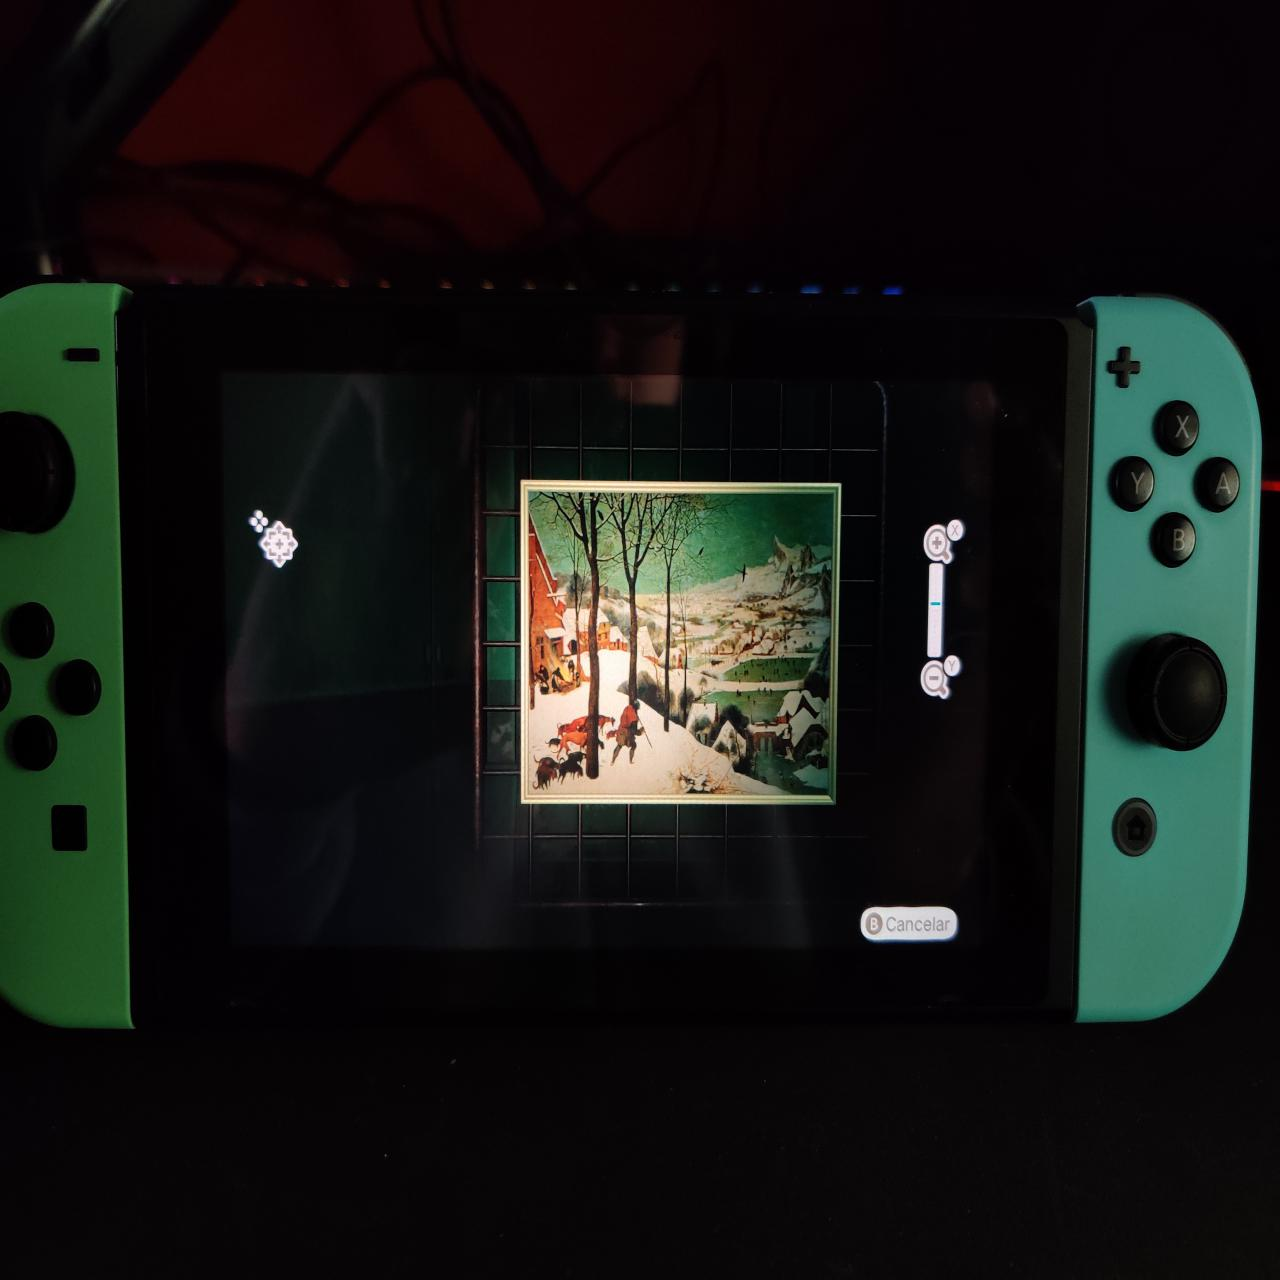HunterSnowFake: (530, 489, 837, 796)
